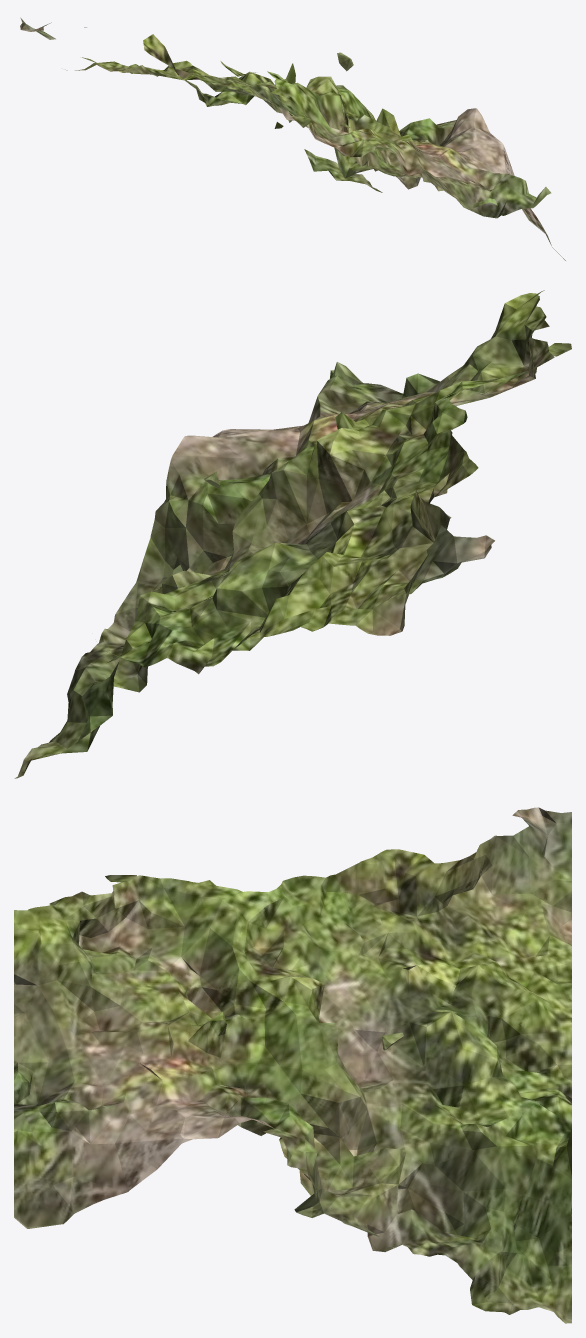
3 renders of one model, top to bottom at view 1: azimuth 30°, elevation 25°; view 2: azimuth 150°, elevation 25°; view 3: azimuth 270°, elevation 25°, orthographic. The views are drawn at different scales.
Size of the model in its own units: 2.62 by 1.79 by 2.95.
2 materials, 2 textured.
